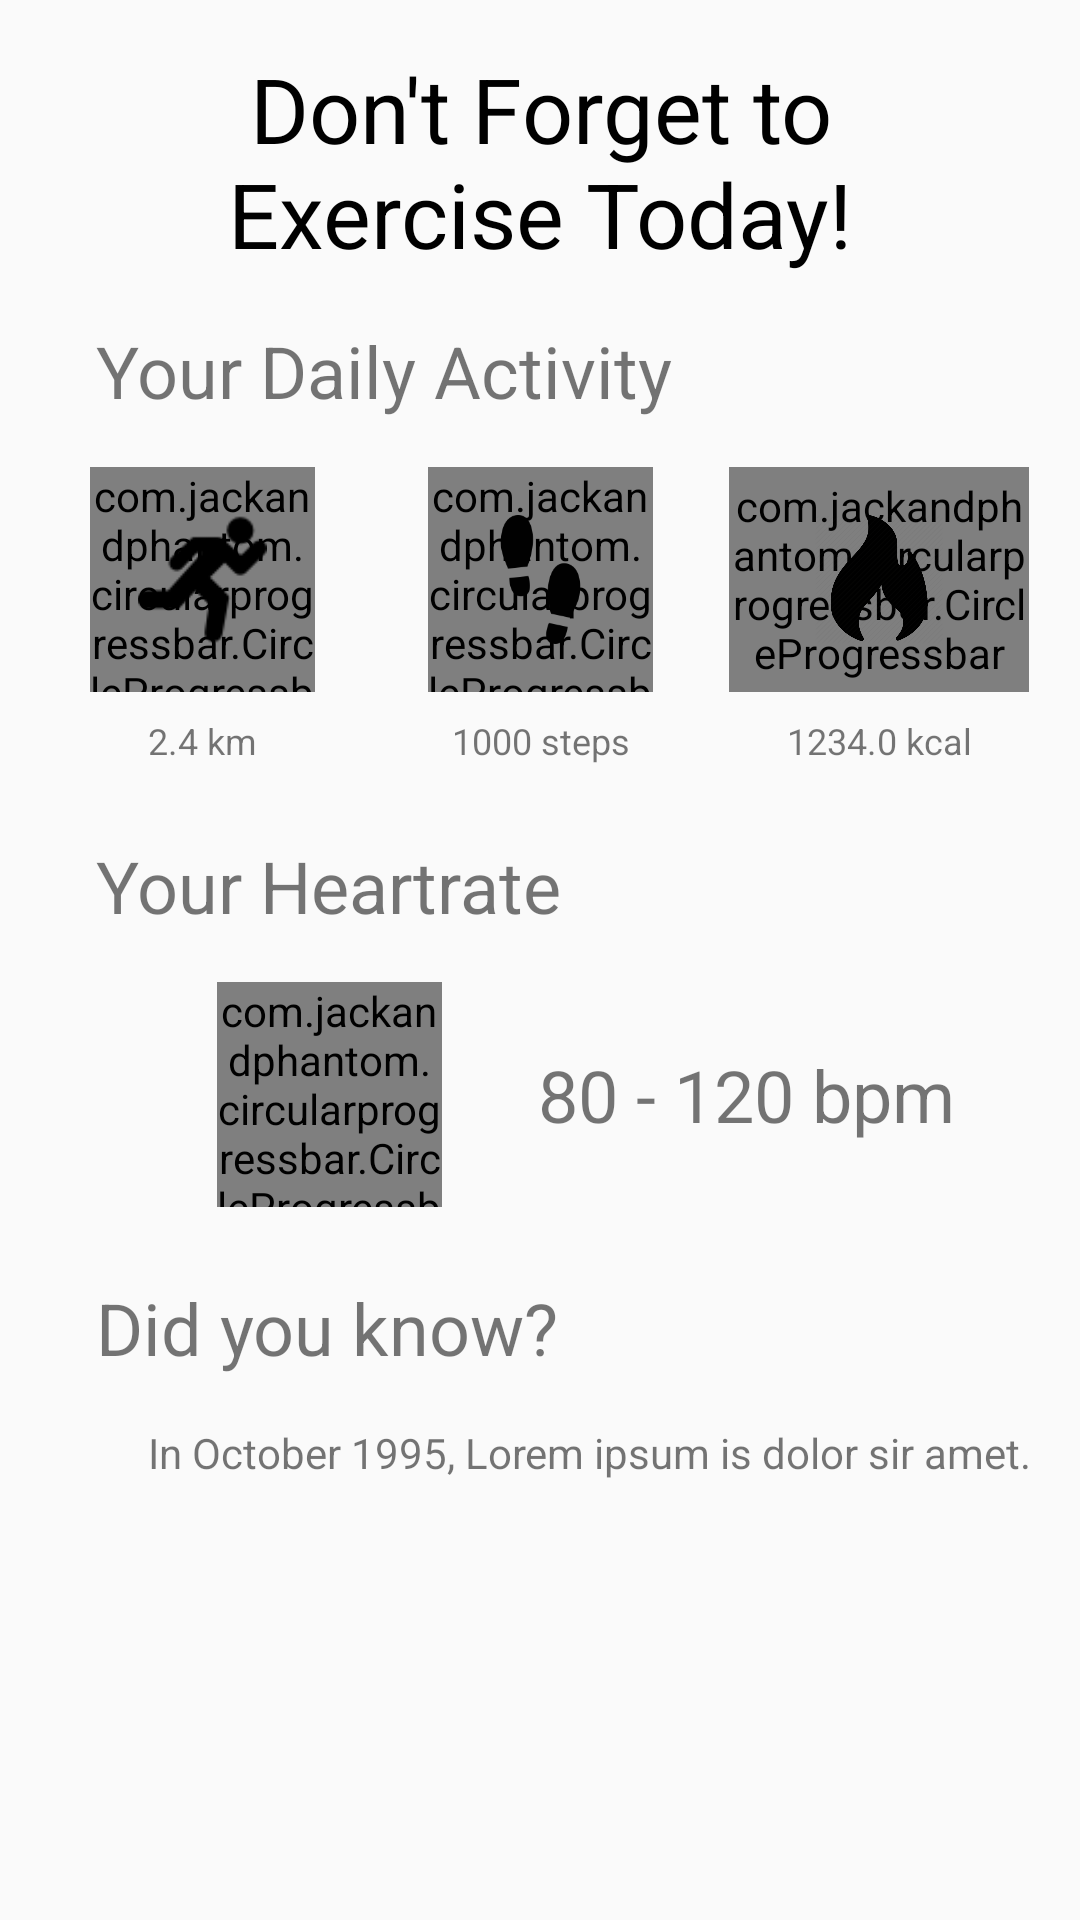

Point at icon controls on the screen. Image size 1080×1920, points as (x,y).
fire: (879,579)
footstep: (540,579)
running: (202,579)
